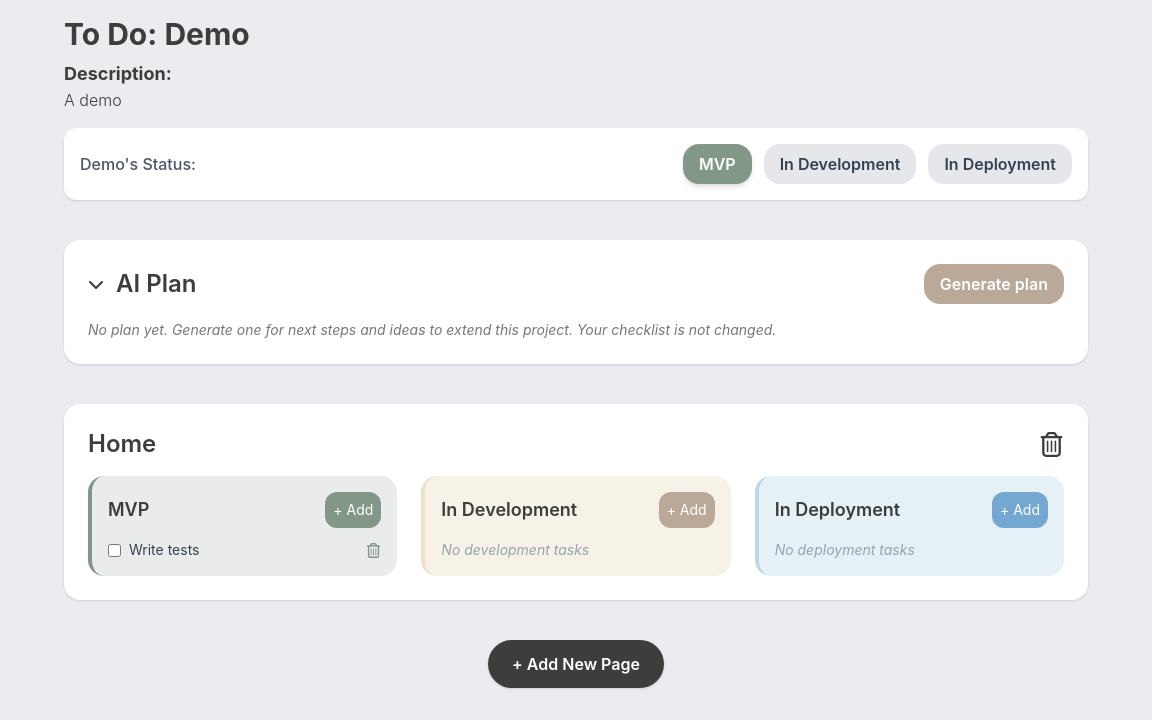
Test: ProjectDetail › AI plan › generating a plan shows it and leaves the checklist untouched
Expected: the text "Write tests" is shown, [129,540,200,560]
Click the button "Generate plan".
click(994, 284)  # box [924,264,1064,304]
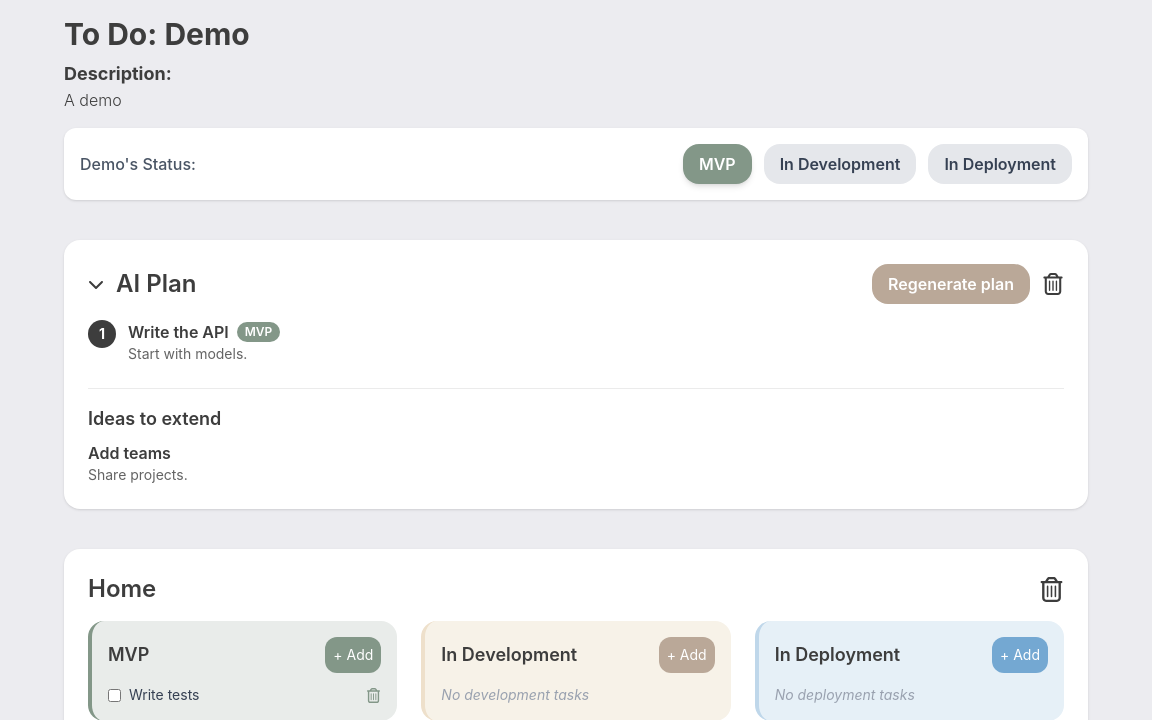
Expected: the number of checkboxes is 1, [108,688,121,702]
Expected: the text "Write the API" is shown, [128,320,229,344]
Expected: the text "Add teams" is shown, [88,443,171,463]
